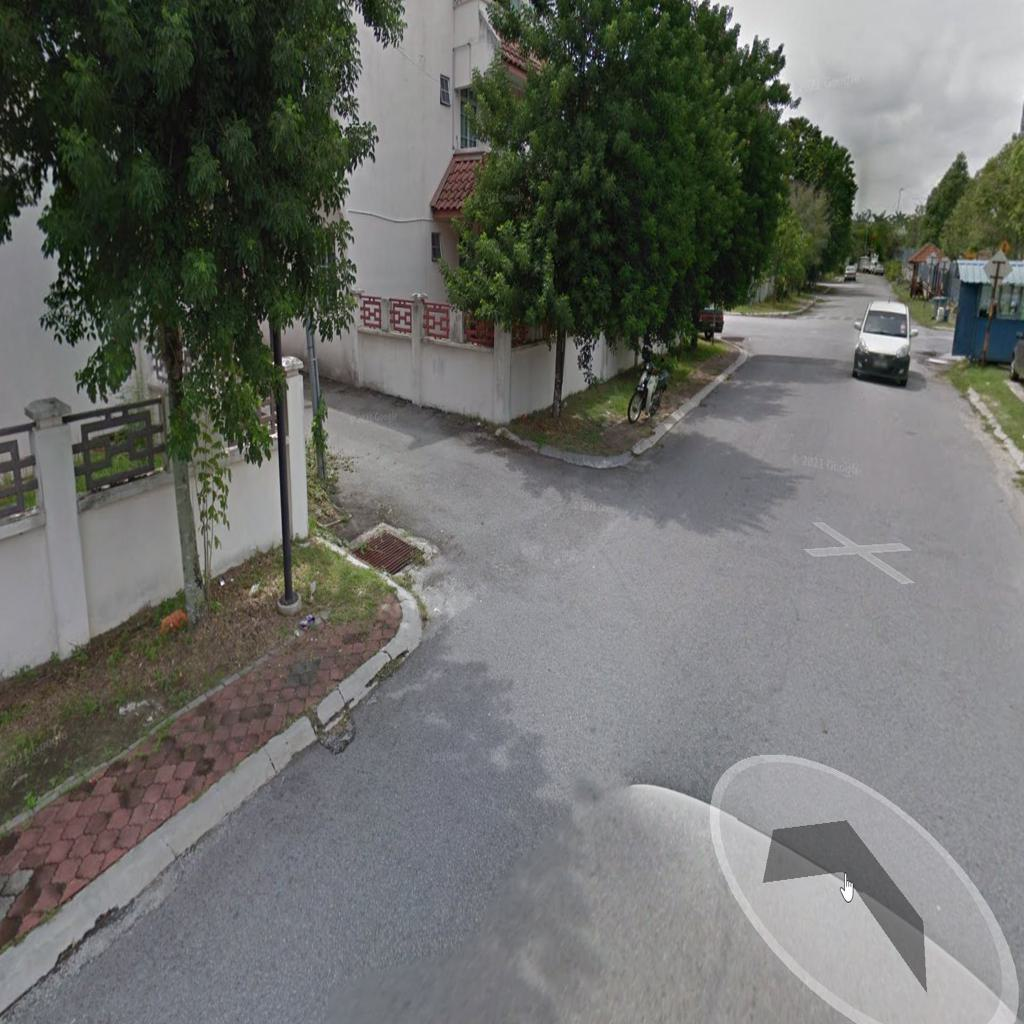Junction: (311, 386, 754, 751)
